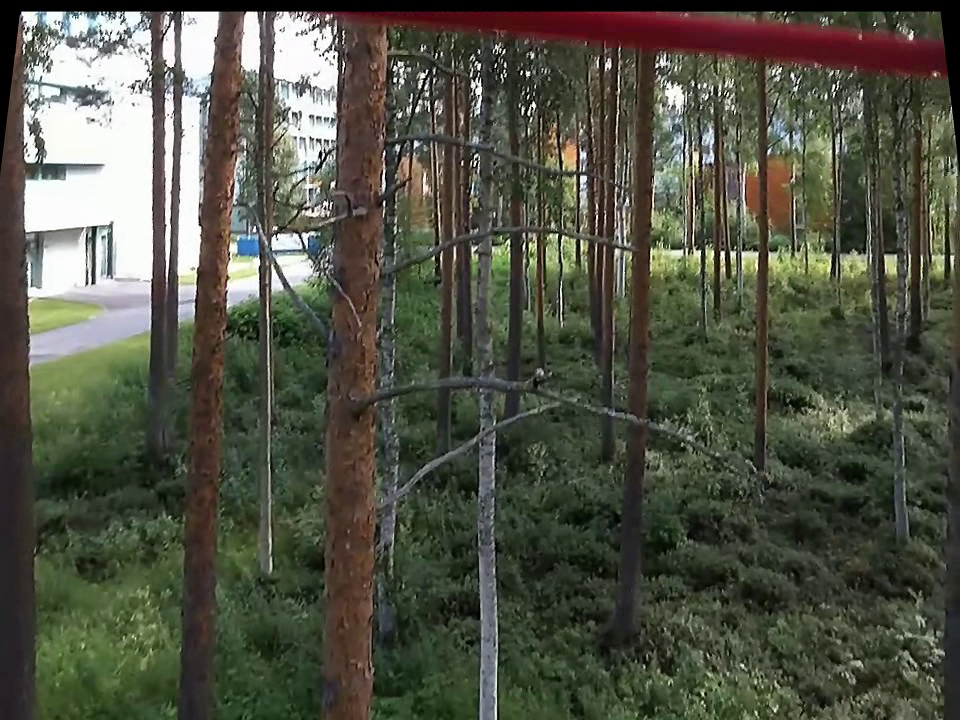branch: (391, 355, 746, 479), (384, 214, 640, 287), (386, 116, 627, 191), (387, 31, 475, 81)
trunk: (164, 19, 257, 711), (305, 13, 382, 712), (605, 38, 675, 648), (469, 36, 514, 717), (245, 20, 288, 577), (130, 22, 184, 439), (878, 104, 921, 545), (743, 68, 783, 474)
